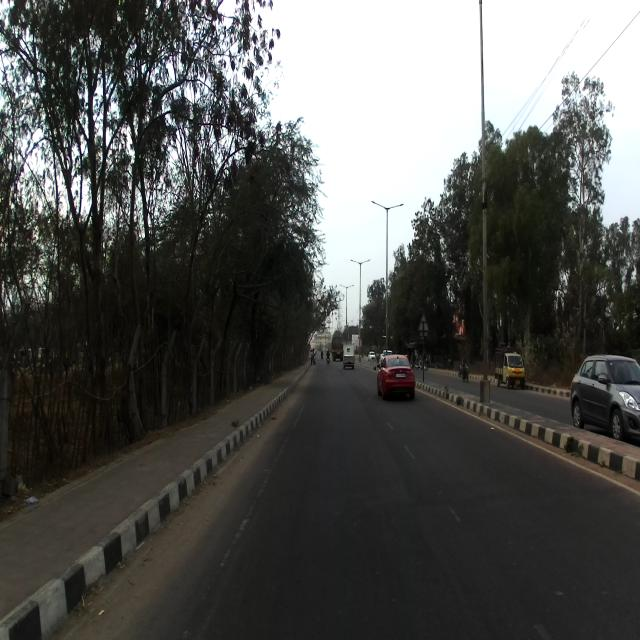car ahead at: (376, 347, 419, 408)
